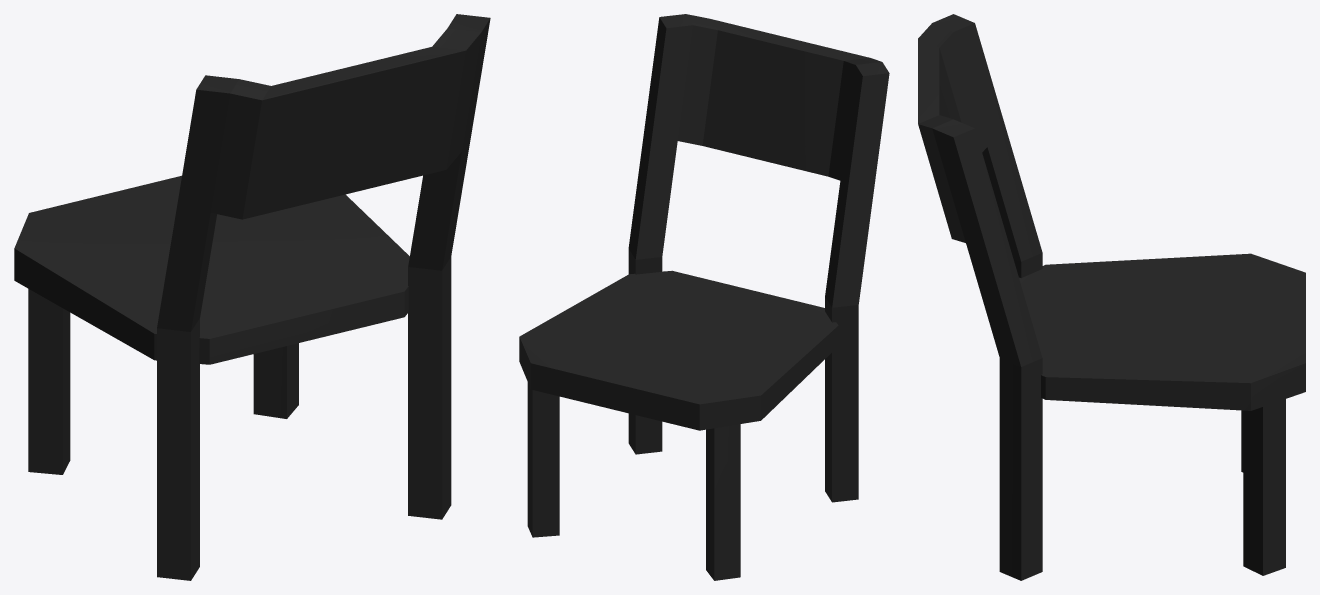
The model's file is Museum_PlainChair.fbx.
3 renders of one model, left to right at view 1: azimuth 30°, elevation 25°; view 2: azimuth 150°, elevation 25°; view 3: azimuth 270°, elevation 25°, orthographic. The views are drawn at different scales.
Visible parts, largest first — view 1: Cube.001; view 2: Cube.001; view 3: Cube.001.
Part boxes in pixels (x1,y1,x2,y2): Cube.001: [14, 14, 490, 580]; Cube.001: [519, 14, 889, 580]; Cube.001: [918, 14, 1305, 580].
Size of the model in its own units: 0.6202 by 0.9905 by 0.7849.
